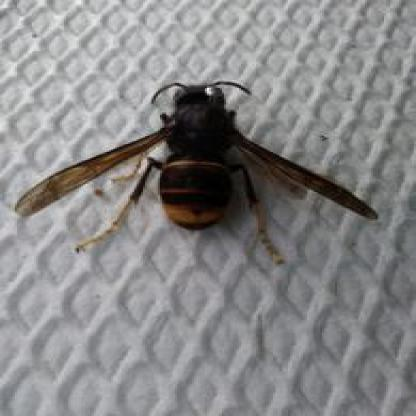Asian Hornet: (15, 80, 380, 268)
